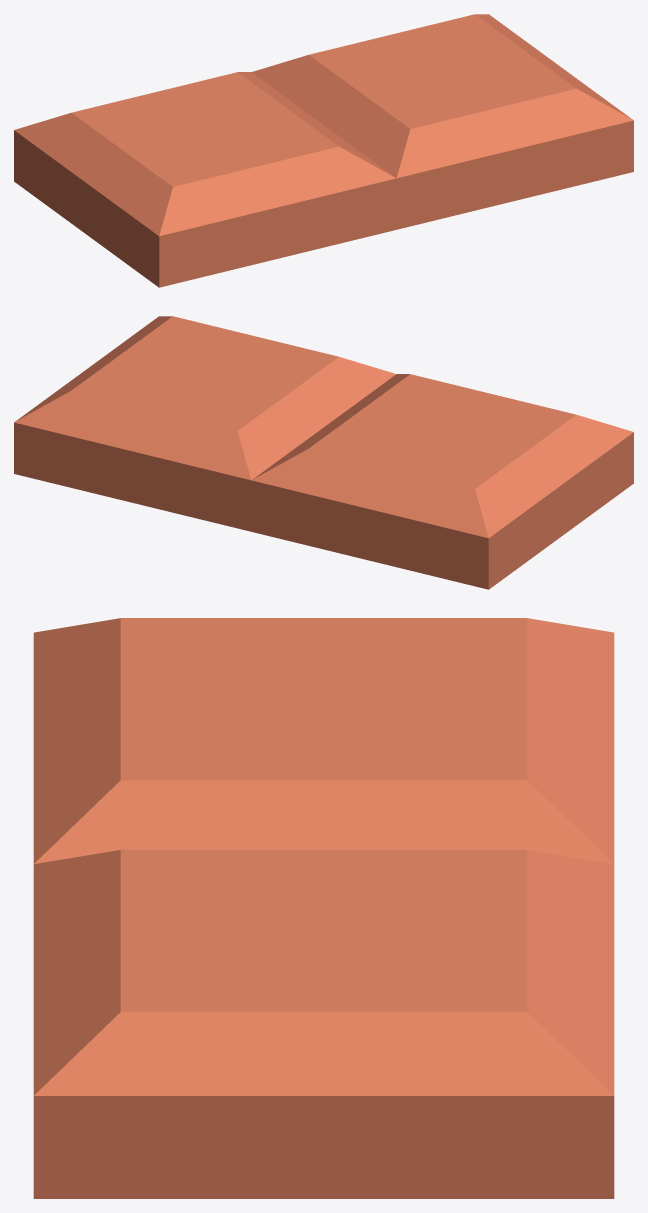
Rendered from Plastic.fbx.
The picture shows the model from 3 angles, top to bottom: view 1: azimuth 30°, elevation 25°; view 2: azimuth 150°, elevation 25°; view 3: azimuth 270°, elevation 25°; orthographic projection. The views are drawn at different scales.
Parts seen in each view (by area): view 1: Plastic; view 2: Plastic; view 3: Plastic.
Part boxes in pixels (x1=…): Plastic: x1=14, y1=14, x2=633, y2=287; Plastic: x1=14, y1=316, x2=633, y2=589; Plastic: x1=33, y1=618, x2=614, y2=1198.
Bounding box in the file's own units: 19.75 × 37.3 × 5.71.
